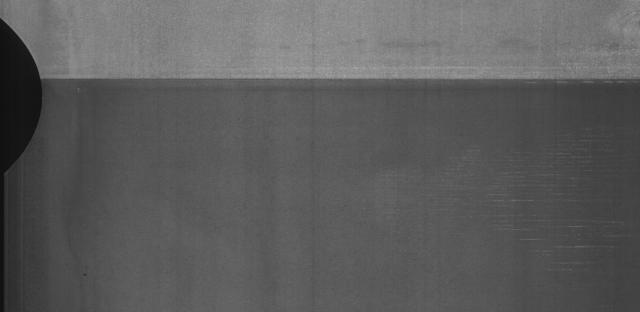welding_line: (31, 64, 638, 91)
